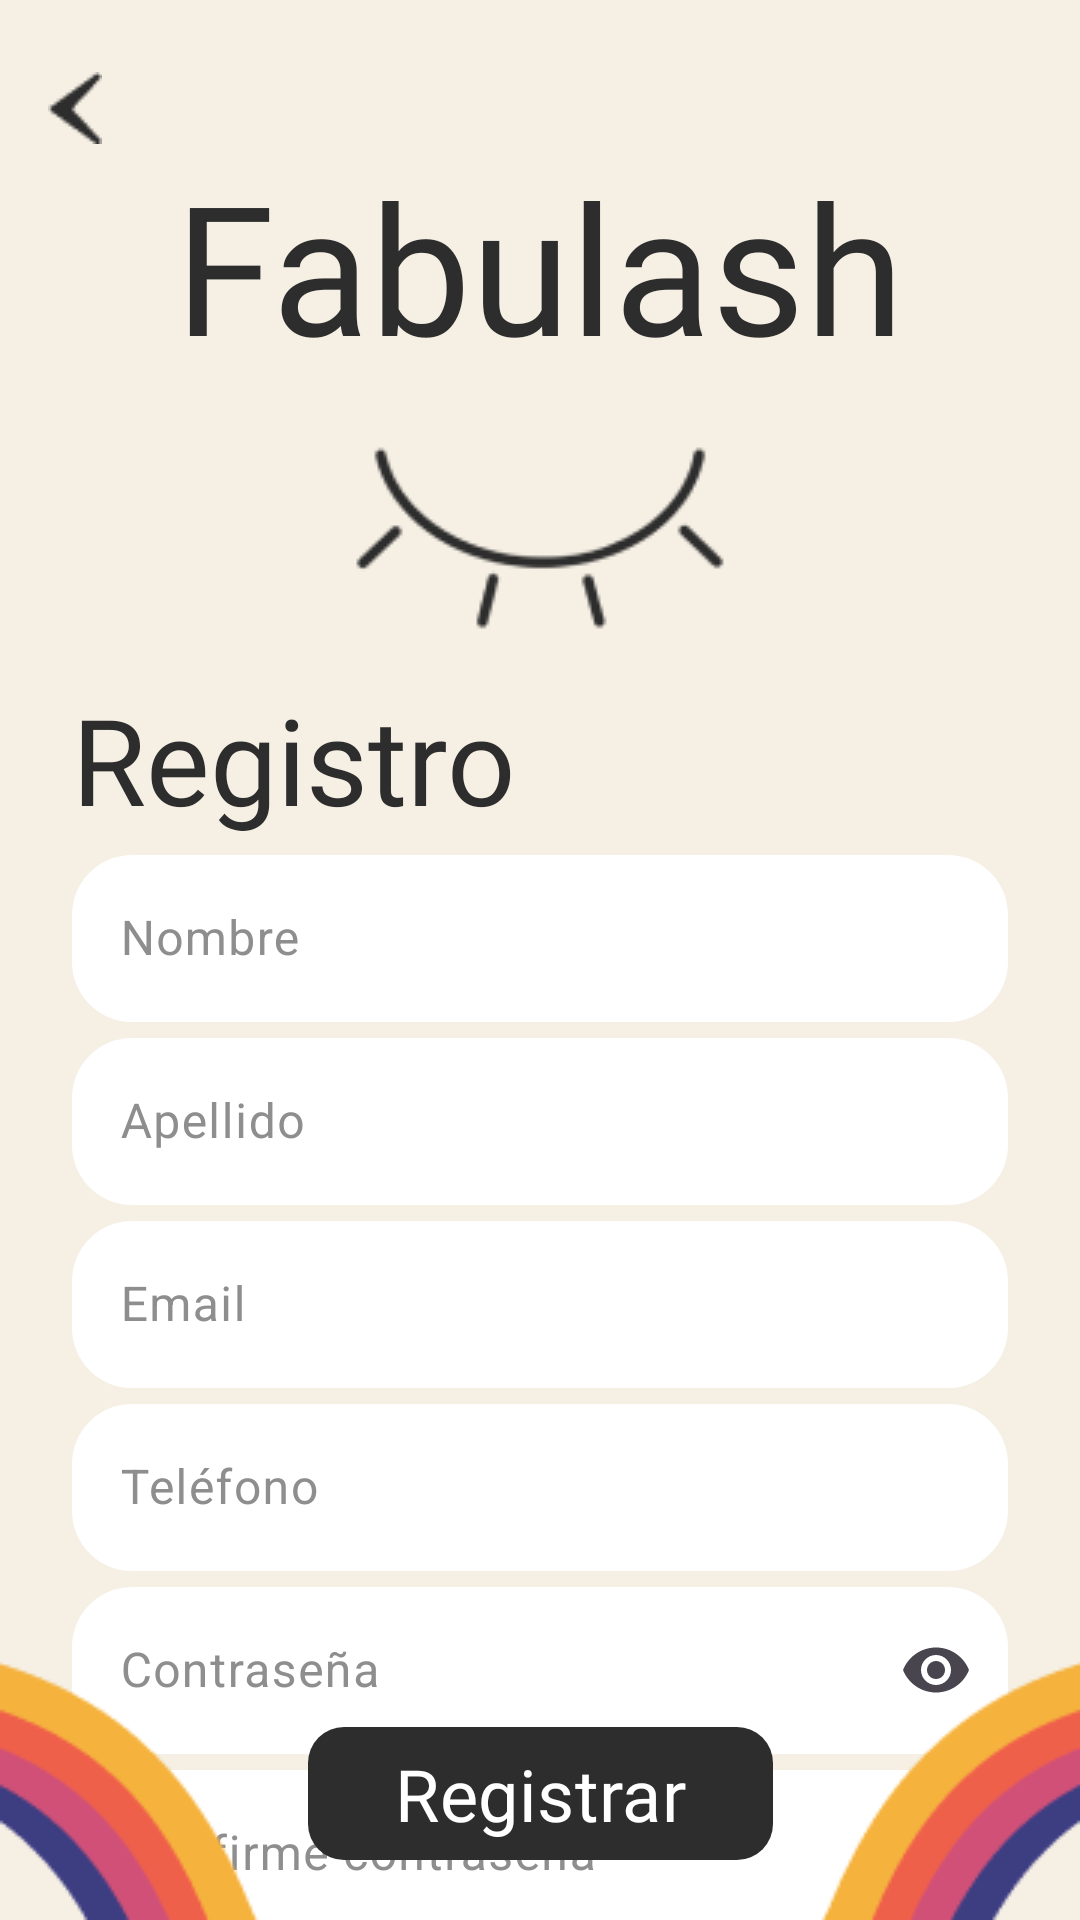

Screen size 1080x1920. Icon name, then its center in pixels as (x=x, y=y):
Atrás: (x=75, y=108)
down rainbow left: (x=129, y=1791)
